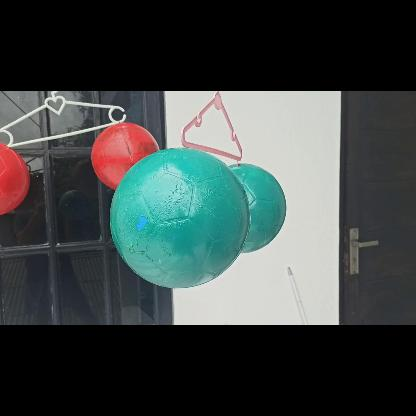green_ball: (108, 148, 248, 288)
